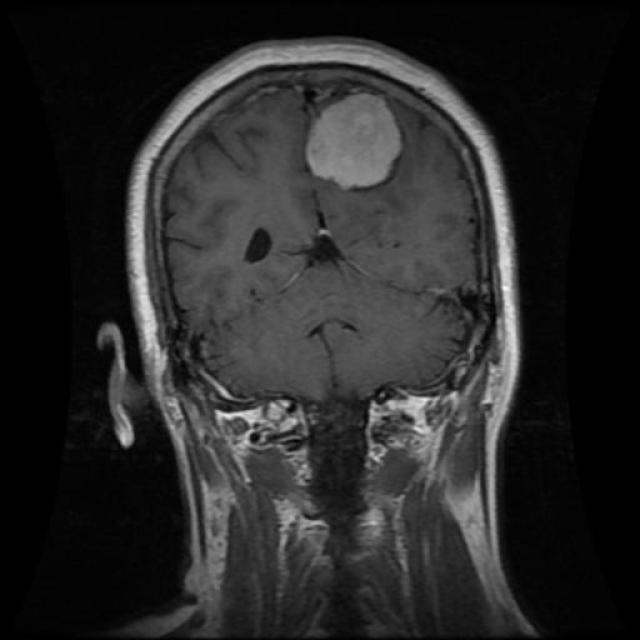meningioma: (305, 92, 402, 190)
